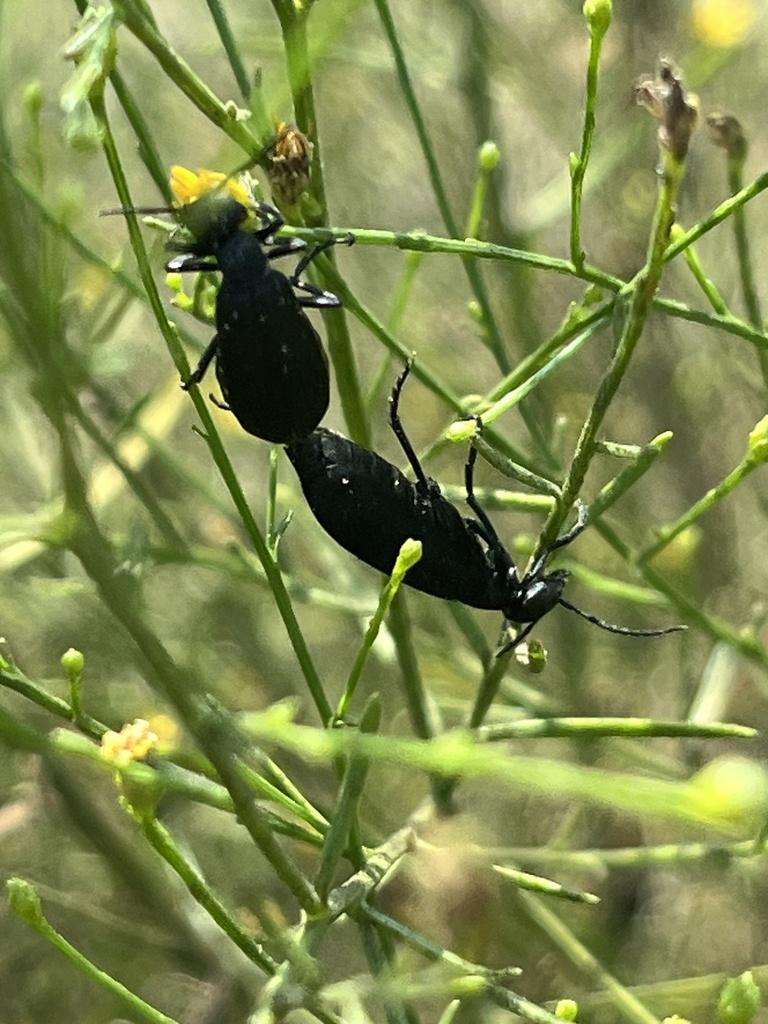blister_beetle: (235, 330, 713, 751), (106, 167, 408, 471)
